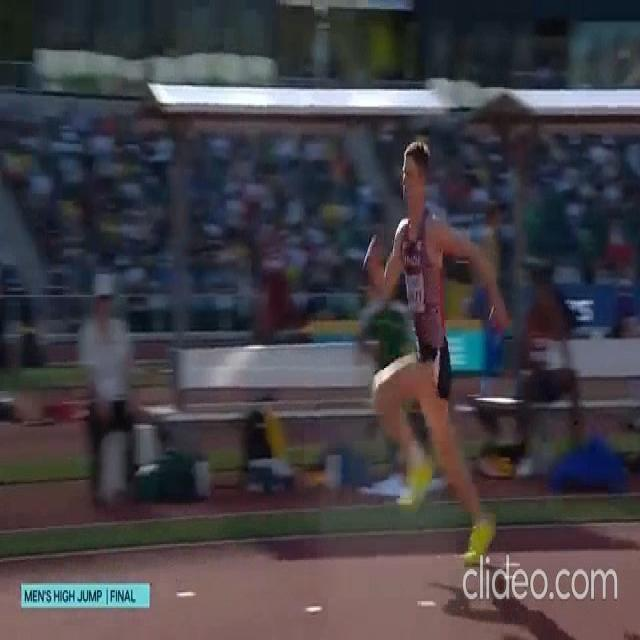run: (363, 139, 506, 561)
